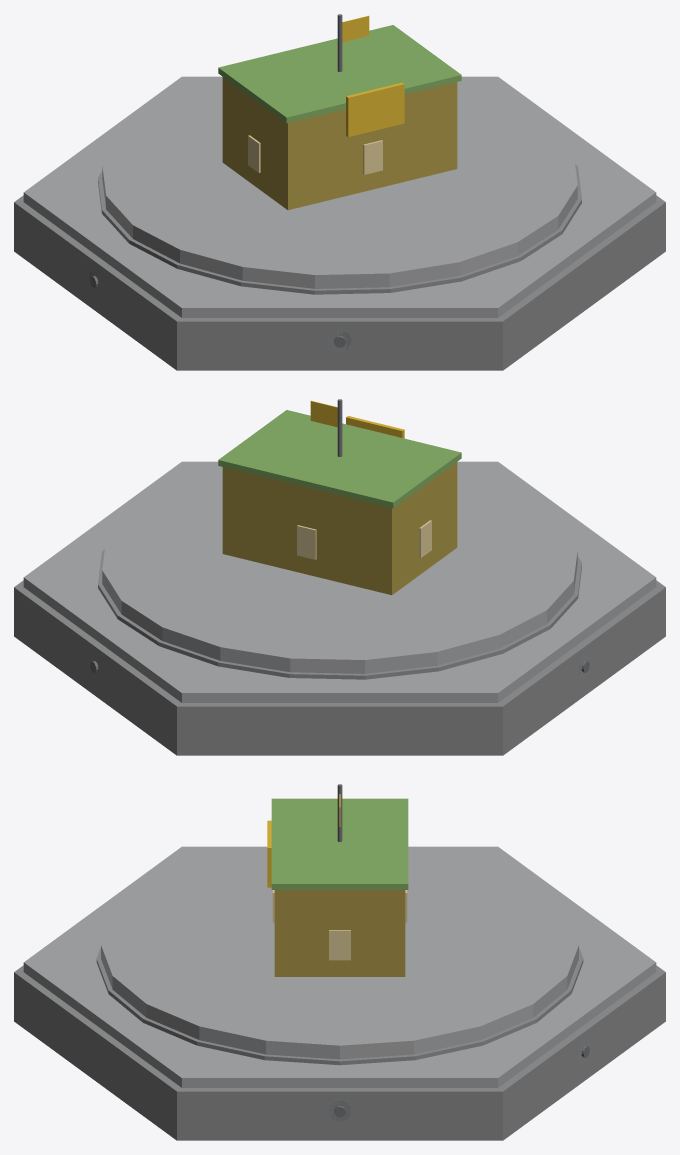
Rendered from exchange_s2_50.glb.
3 renders of one model, top to bottom at view 1: azimuth 30°, elevation 25°; view 2: azimuth 150°, elevation 25°; view 3: azimuth 270°, elevation 25°, orthographic.
Parts seen in each view (by area): view 1: EX_Base; view 2: EX_Base; view 3: EX_Base.
Boxes of the visible parts, x1,y1,x2,y2 form: EX_Base: (14, 14, 665, 370); EX_Base: (14, 399, 665, 755); EX_Base: (14, 784, 665, 1140).
Bounding box in the file's own units: 5.25 × 2.4 × 6.
